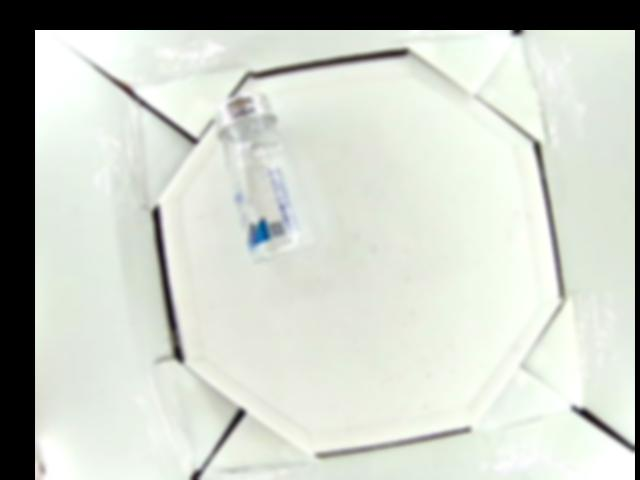Bottle: (215, 93, 313, 261)
